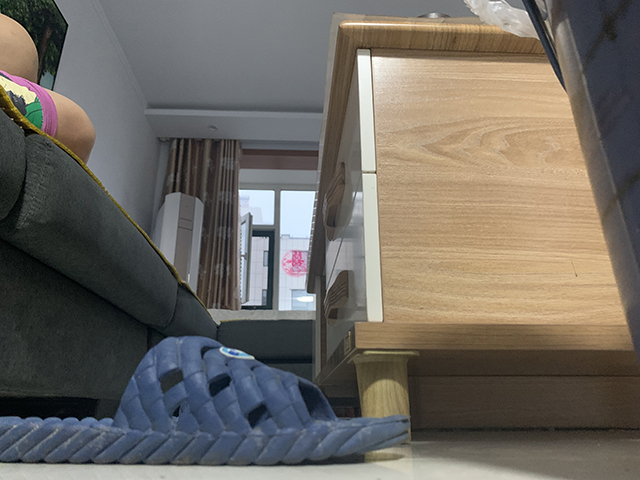slippers: (1, 336, 412, 468)
sofa: (1, 85, 316, 420)
table: (304, 13, 640, 448)
